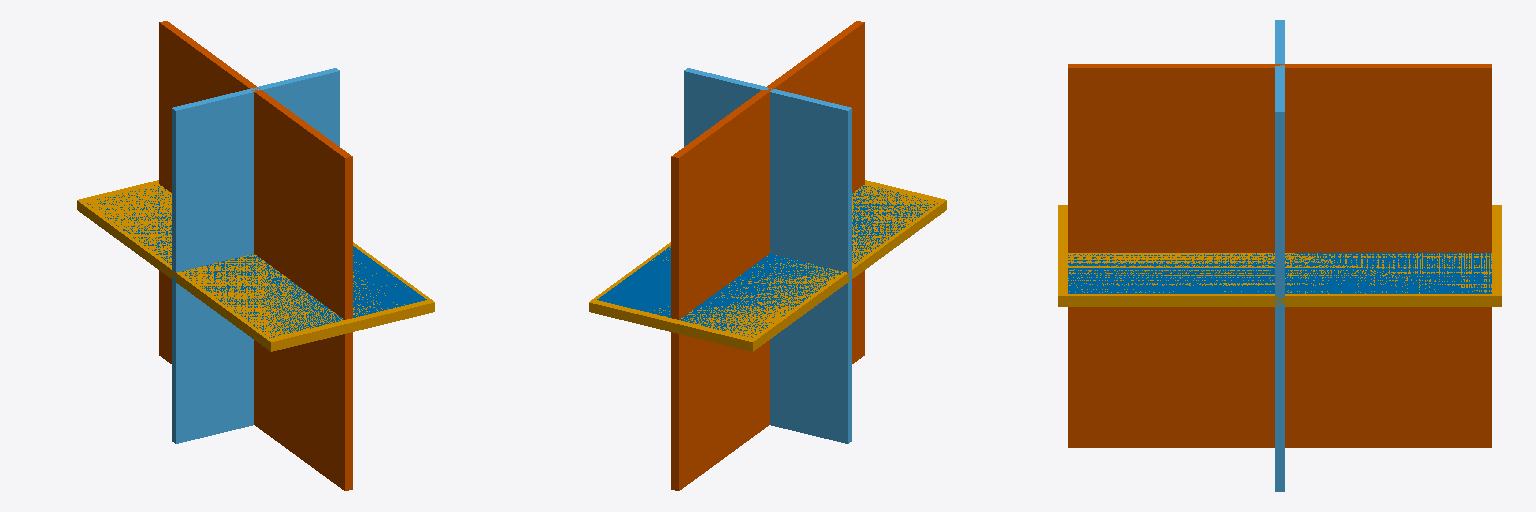
robot.urdf — plane:
<?xml version="1.0" ?>
<robot name="plane">

  <link name="shelf_bottom">
    <contact>
        <lateral_friction value="1"/>
        <spinning_friction value="0.01"/>
			  <rolling_friction value="0.01"/>
    </contact>
    
    <inertial>
      <origin rpy="0 0 0" xyz="0 0 0"/>
      <mass value=".0"/>
      <inertia ixx="0" ixy="0" ixz="0" iyy="0" iyz="0" izz="0"/>
    </inertial>
      
    <visual>
      <geometry>
        <mesh filename="meshes/shelf_bottom.obj" />
      </geometry>
      <!-- <material name="table_gray"/> -->
    </visual>
    
    <collision>
      <geometry>
        <mesh filename="meshes/shelf_bottom.obj" />
      </geometry>
    </collision>
      
  </link>

  <link name="shelf_left">
    <contact>
        <lateral_friction value="1"/>
        <spinning_friction value="0.01"/>
			  <rolling_friction value="0.01"/>
    </contact>
    
    <inertial>
      <origin rpy="0 0 0" xyz="0 0.3925 0.3905"/>
      <mass value=".0"/>
      <inertia ixx="0" ixy="0" ixz="0" iyy="0" iyz="0" izz="0"/>
    </inertial>
      
    <visual>
      <geometry>
        <mesh filename="meshes/shelf_left.obj" />
      </geometry>
      <!-- <material name="table_gray"/> -->
    </visual>
    
    <collision>
      <geometry>
        <mesh filename="meshes/shelf_left.obj" />
      </geometry>
    </collision>
      
  </link>

  <link name="shelf_right">
    <contact>
        <lateral_friction value="1"/>
        <spinning_friction value="0.01"/>
			  <rolling_friction value="0.01"/>
    </contact>
    
    <inertial>
      <origin rpy="0 0 0" xyz="0 -0.3925 0.3905"/>
      <mass value=".0"/>
      <inertia ixx="0" ixy="0" ixz="0" iyy="0" iyz="0" izz="0"/>
    </inertial>
      
    <visual>
      <geometry>
        <mesh filename="meshes/shelf_right.obj" />
      </geometry>
      <!-- <material name="table_gray"/> -->
    </visual>
    
    <collision>
      <geometry>
        <mesh filename="meshes/shelf_right.obj" />
      </geometry>
    </collision>
      
  </link>

  <link name="shelf_upper">
    <contact>
        <lateral_friction value="1"/>
        <spinning_friction value="0.01"/>
			  <rolling_friction value="0.01"/>
    </contact>
    
    <inertial>
      <origin rpy="0 0 0" xyz="0 0 0.781"/>
      <mass value=".0"/>
      <inertia ixx="0" ixy="0" ixz="0" iyy="0" iyz="0" izz="0"/>
    </inertial>
      
    <visual>
      <geometry>
        <mesh filename="meshes/shelf_upper.obj" />
      </geometry>
      <!-- <material name="table_gray"/> -->
    </visual>
    
    <collision>
      <geometry>
        <mesh filename="meshes/shelf_upper.obj" />
      </geometry>
    </collision>
      
  </link>

  <link name="shelf_middle">
    <contact>
        <lateral_friction value="1"/>
        <spinning_friction value="0.01"/>
			  <rolling_friction value="0.01"/>
    </contact>
    
    <inertial>
      <origin rpy="0 0 0" xyz="0.009 0 0.3905"/>
      <mass value=".0"/>
      <inertia ixx="0" ixy="0" ixz="0" iyy="0" iyz="0" izz="0"/>
    </inertial>
      
    <visual>
      <geometry>
        <mesh filename="meshes/shelf_middle.obj" />
      </geometry>
      <!-- <material name="table_gray"/> -->
    </visual>
    
    <collision>
      <geometry>
        <mesh filename="meshes/shelf_middle.obj" />
      </geometry>
    </collision>
      
  </link>

  <link name="shelf_back">
    <contact>
        <lateral_friction value="1"/>
        <spinning_friction value="0.01"/>
			  <rolling_friction value="0.01"/>
    </contact>
    
    <inertial>
      <origin rpy="0 0 0" xyz="-0.187 0 0.3905"/>
      <mass value=".0"/>
      <inertia ixx="0" ixy="0" ixz="0" iyy="0" iyz="0" izz="0"/>
    </inertial>
      
    <visual>
      <geometry>
        <mesh filename="meshes/shelf_back.obj" />
      </geometry>
      <!-- <material name="table_gray"/> -->
    </visual>
    
    <collision>
      <geometry>
        <mesh filename="meshes/shelf_back.obj" />
      </geometry>
    </collision>
      
  </link>

  <joint name="fixed_joint1" type="fixed">
    <parent link="shelf_bottom"/>
    <child link="shelf_left"/>
    <origin rpy="0 0 0.0" xyz="0 0 0.0"/>
  </joint>

  <joint name="fixed_joint2" type="fixed">
    <parent link="shelf_bottom"/>
    <child link="shelf_right"/>
    <origin rpy="0 0 0.0" xyz="0 0 0.0"/>
  </joint>

  <joint name="fixed_joint3" type="fixed">
    <parent link="shelf_bottom"/>
    <child link="shelf_upper"/>
    <origin rpy="0 0 0.0" xyz="0 0 0.0"/>
  </joint>

  <joint name="fixed_joint4" type="fixed">
    <parent link="shelf_bottom"/>
    <child link="shelf_middle"/>
    <origin rpy="0 0 0.0" xyz="0 0 0.0"/>
  </joint>

  <joint name="fixed_joint5" type="fixed">
    <parent link="shelf_bottom"/>
    <child link="shelf_back"/>
    <origin rpy="0 0 0.0" xyz="0 0 0.0"/>
  </joint>

  <material name="table_gray">
    <color rgba=".7686 .6431 .5176 1."/>
  </material>

</robot>

--- Facts derived from the render (not from the file) ---
Views: 3 orthographic renders of the robot side by side, from view 1: azimuth 30°, elevation 25°; view 2: azimuth 150°, elevation 25°; view 3: azimuth 270°, elevation 25°.
Robot: plane — 6 links, 5 joints (5 fixed); root link shelf_bottom; default pose: all joints at 0.
Links seen in each view (by area): view 1: shelf_back, shelf_left, shelf_bottom, shelf_middle; view 2: shelf_back, shelf_left, shelf_bottom, shelf_middle; view 3: shelf_back, shelf_middle, shelf_bottom, shelf_left.
Boxes of the visible links, box(x1,y1,x2,y2) form: shelf_back: box(159, 21, 352, 490); shelf_left: box(172, 68, 339, 443); shelf_bottom: box(77, 180, 434, 351); shelf_middle: box(87, 185, 426, 337); shelf_back: box(671, 21, 864, 490); shelf_left: box(684, 68, 851, 443); shelf_bottom: box(589, 180, 946, 351); shelf_middle: box(597, 184, 937, 337); shelf_back: box(1068, 64, 1491, 447); shelf_middle: box(1068, 253, 1491, 293); shelf_bottom: box(1058, 205, 1501, 306); shelf_left: box(1275, 20, 1284, 491).
Bounding box of the posed robot: 0.392 × 0.803 × 0.759 m (x, y, z).
Meshes: 6 distinct files referenced, 6 mesh visuals loaded (6 OBJ).